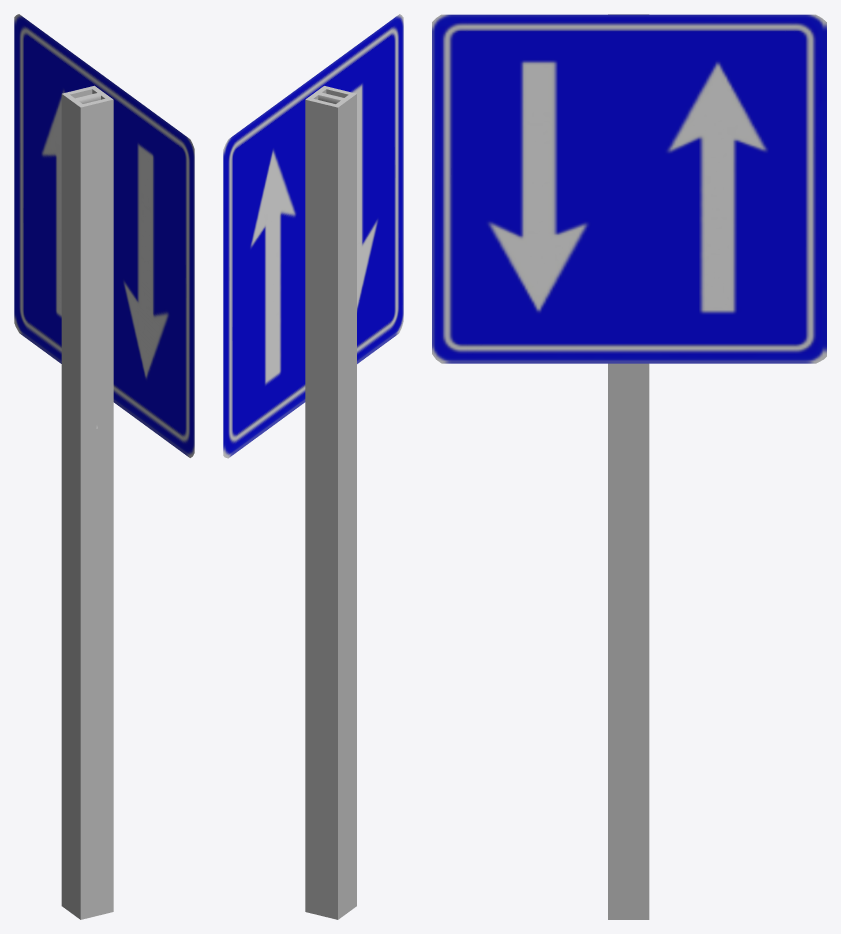
File: two_way_road_sign.obj
3 views of the same model, side by side, from view 1: azimuth 30°, elevation 25°; view 2: azimuth 150°, elevation 25°; view 3: azimuth 270°, elevation 25° (orthographic). The views are drawn at different scales.
Visible parts, largest first — view 1: Cube.003_Cube.001, street_signs.002; view 2: street_signs.002, Cube.003_Cube.001; view 3: street_signs.002, Cube.003_Cube.001.
Boxes of the visible parts, left/top/right/bottom form: Cube.003_Cube.001: left=61, top=85, right=113, bottom=919; street_signs.002: left=14, top=14, right=194, bottom=457; street_signs.002: left=223, top=14, right=403, bottom=458; Cube.003_Cube.001: left=305, top=86, right=356, bottom=919; street_signs.002: left=432, top=14, right=826, bottom=363; Cube.003_Cube.001: left=608, top=14, right=649, bottom=919.
Bounding box in the file's own units: 0.101 × 2.37 × 0.9372.
Materials: 2 (1 with a texture image).
